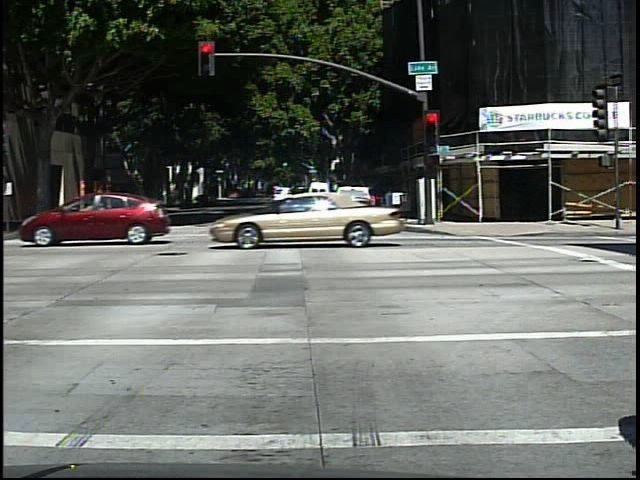person: (86, 184, 116, 237)
